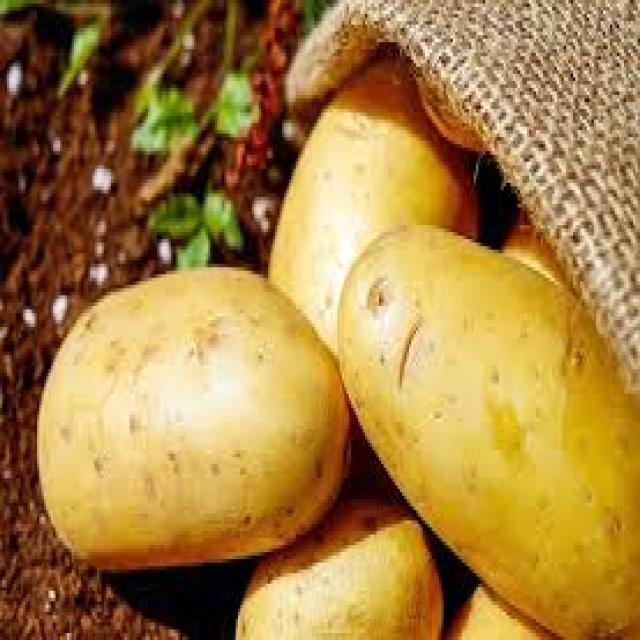Wet Waste: (364, 225, 640, 633), (34, 276, 331, 563)
